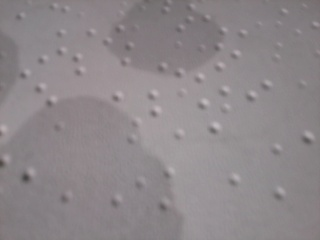Water_detected: (38, 115, 205, 240), (143, 11, 207, 53)
